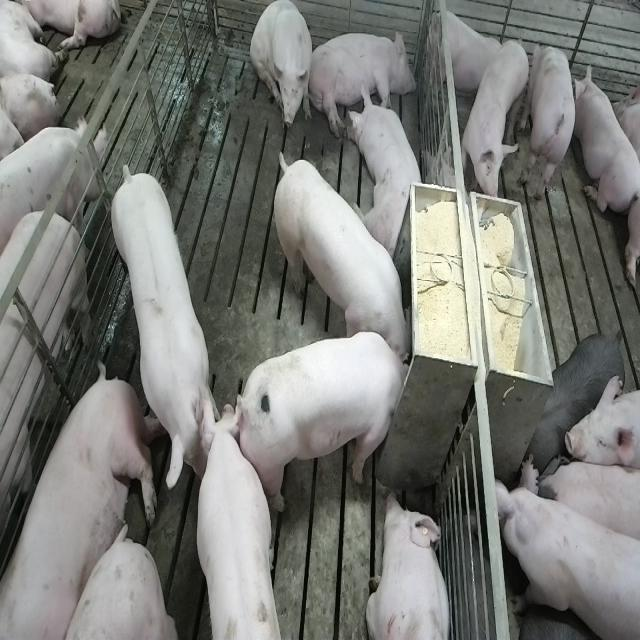Feeding: (242, 331, 420, 512), (269, 144, 412, 362)
Lateral_lying: (307, 27, 416, 142)
Sitting: (250, 3, 314, 137)
Standing: (0, 198, 92, 639), (106, 165, 220, 495), (494, 458, 638, 640), (188, 399, 281, 640), (0, 109, 106, 255), (528, 331, 627, 465), (458, 40, 530, 206), (537, 450, 640, 551), (528, 37, 579, 201)
Sternal_lying: (351, 86, 428, 258), (366, 489, 453, 640), (575, 62, 638, 215), (426, 5, 515, 100)
